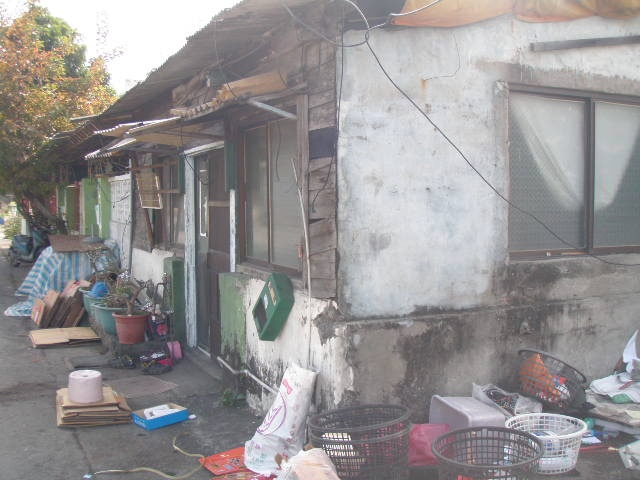plastic_bag: (4, 239, 123, 316), (244, 359, 319, 476)
